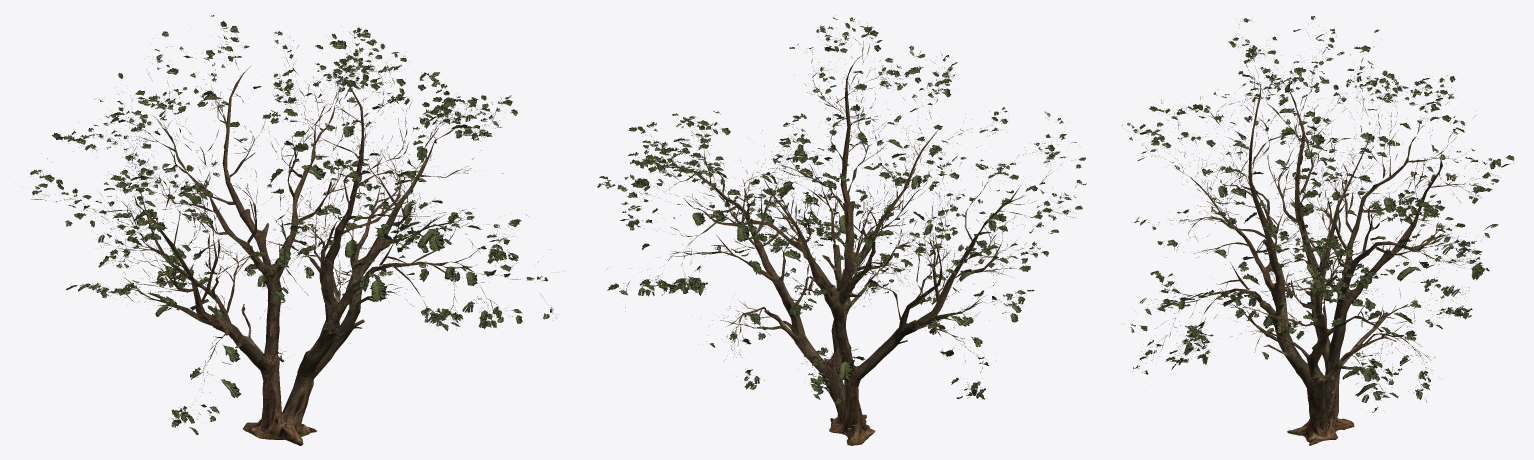
The model's file is jacaranda_tree.glb.
3 renders of one model, left to right at view 1: azimuth 30°, elevation 25°; view 2: azimuth 150°, elevation 25°; view 3: azimuth 270°, elevation 25°, orthographic. The views are drawn at different scales.
Parts seen in each view (by area): view 1: jacaranda_tree; view 2: jacaranda_tree; view 3: jacaranda_tree.
Boxes of the visible parts, x1,y1,x2,y2 form: jacaranda_tree: (30, 15, 562, 445); jacaranda_tree: (597, 17, 1086, 445); jacaranda_tree: (1121, 16, 1514, 445).
Size of the model in its own units: 24.24 by 19.34 by 18.35.
Materials: 3 (3 with a texture image).
